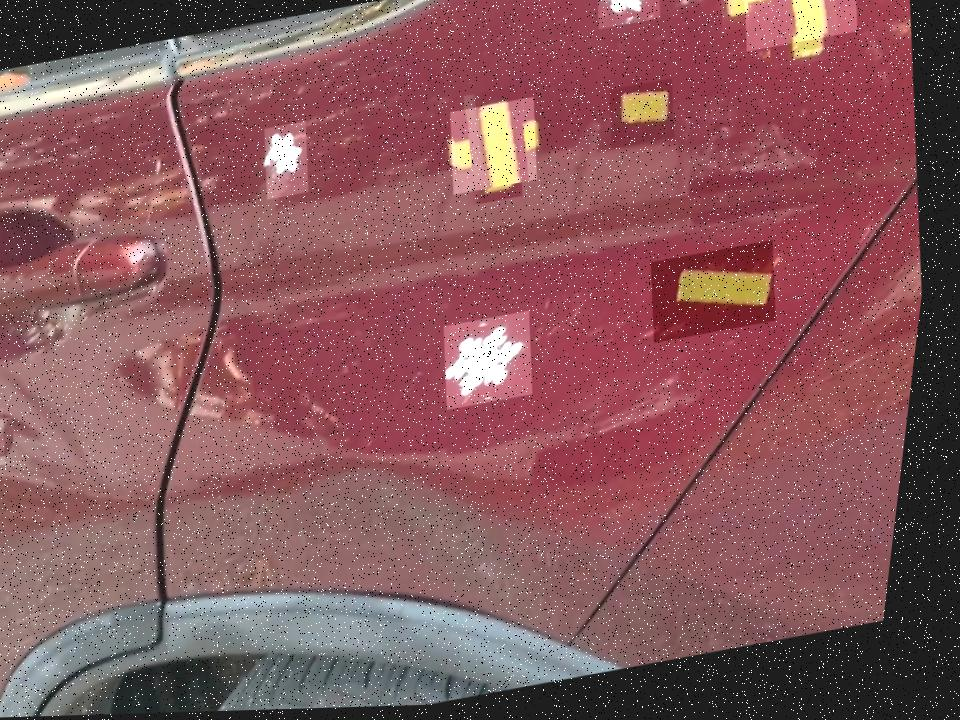dent: (444, 314, 550, 413), (261, 123, 320, 202), (590, 0, 664, 33), (0, 408, 22, 473)
scratch: (650, 245, 791, 348), (445, 99, 548, 198), (730, 0, 863, 56), (606, 82, 683, 153)
